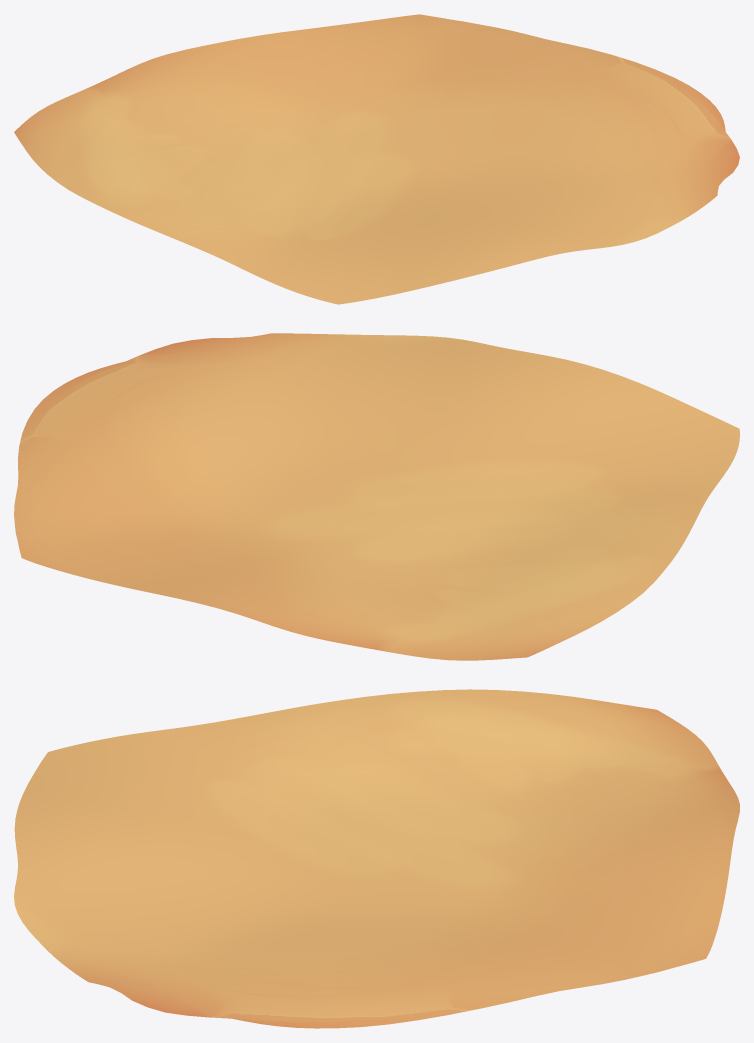
The model's file is landingLevelsBase 2 _001.fbx.
3 renders of one model, top to bottom at view 1: azimuth 30°, elevation 25°; view 2: azimuth 150°, elevation 25°; view 3: azimuth 270°, elevation 25°, orthographic. The views are drawn at different scales.
Parts seen in each view (by area): view 1: landingLevelsBase 2 _001; view 2: landingLevelsBase 2 _001; view 3: landingLevelsBase 2 _001.
Part boxes in pixels (left/top/right/bottom): landingLevelsBase 2 _001: left=14, top=14, right=739, bottom=304; landingLevelsBase 2 _001: left=14, top=333, right=739, bottom=660; landingLevelsBase 2 _001: left=14, top=689, right=739, bottom=1028.
Bounding box in the file's own units: 214 × 234 × 5.44.
Materials: 1 (1 with a texture image).
